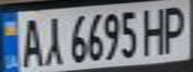5: (118, 7, 142, 58)
6: (84, 10, 106, 62), (66, 10, 87, 64)
9: (103, 8, 124, 61)
A: (15, 14, 45, 68)
H: (139, 3, 172, 56)
I: (39, 12, 66, 66)
P: (157, 1, 193, 54)
